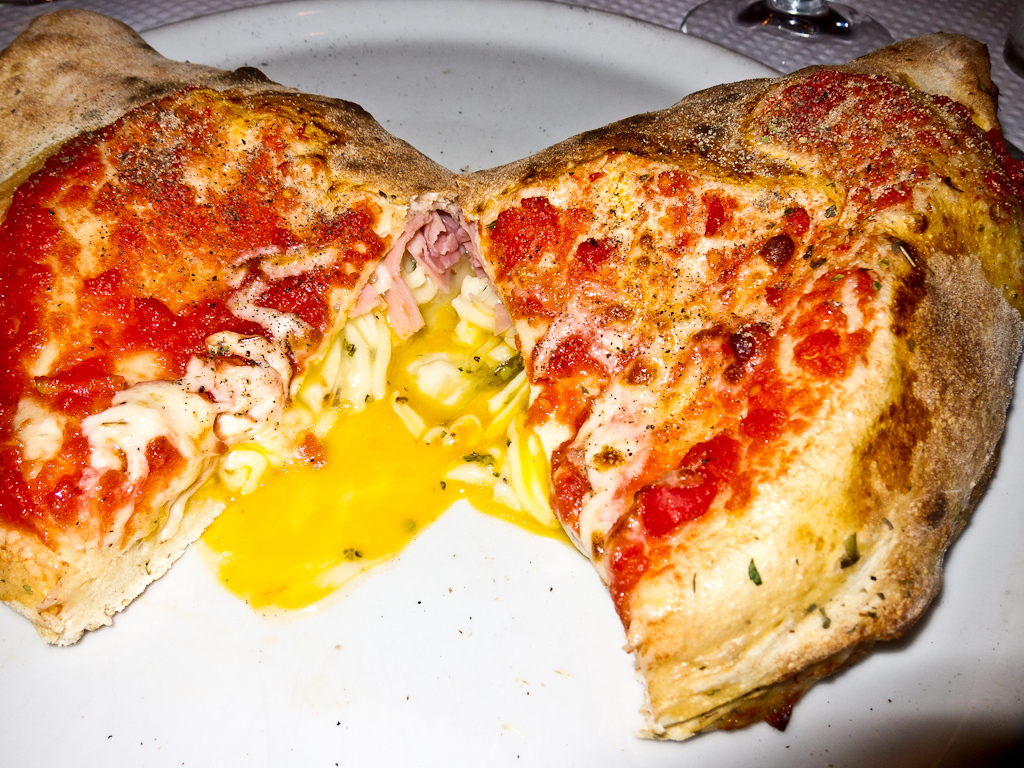Pizza: (451, 27, 1022, 735), (0, 12, 469, 660)
